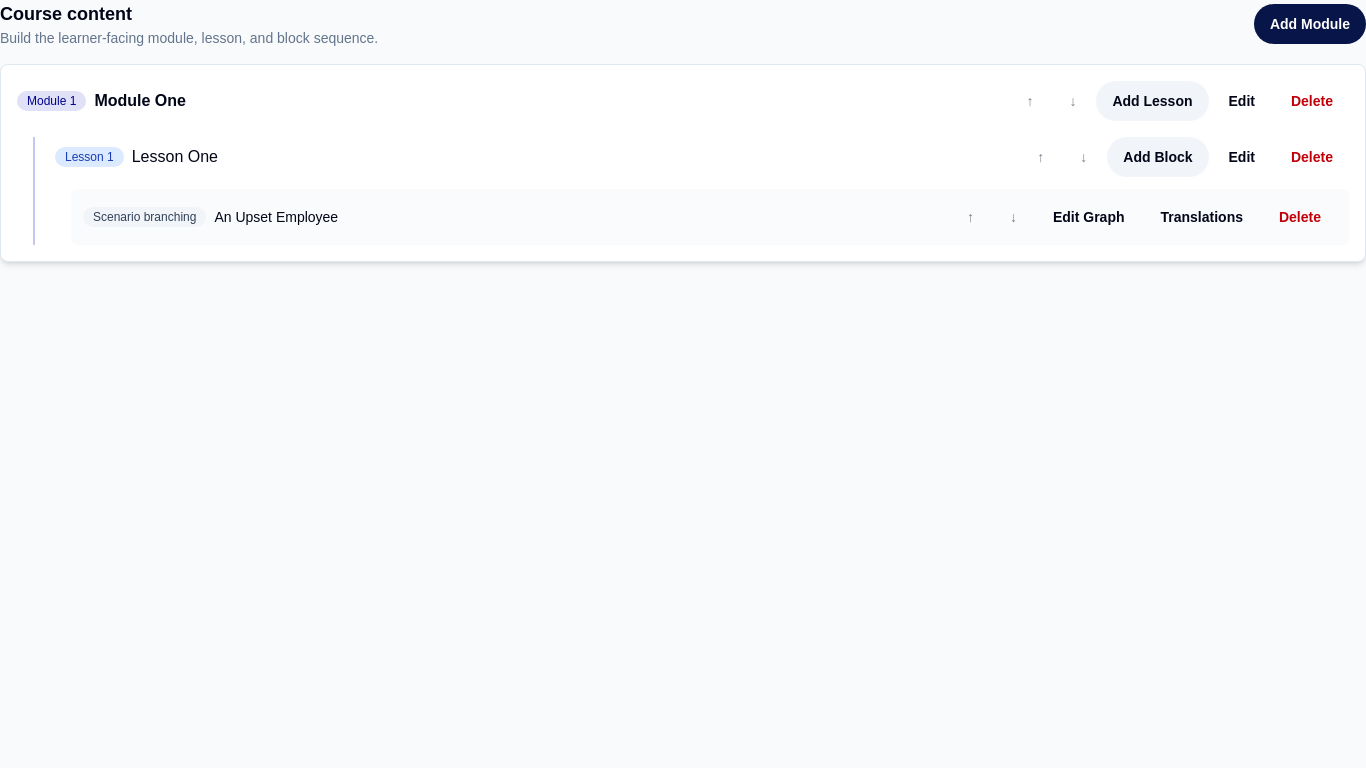
Test: MhdTrainingContentTreeEditor › the add-block type picker excludes SCENARIO_BRANCHING and AI_CONVERSATION
Click the button "Add Block": (1158, 157) left=1107, top=137, right=1208, bottom=177
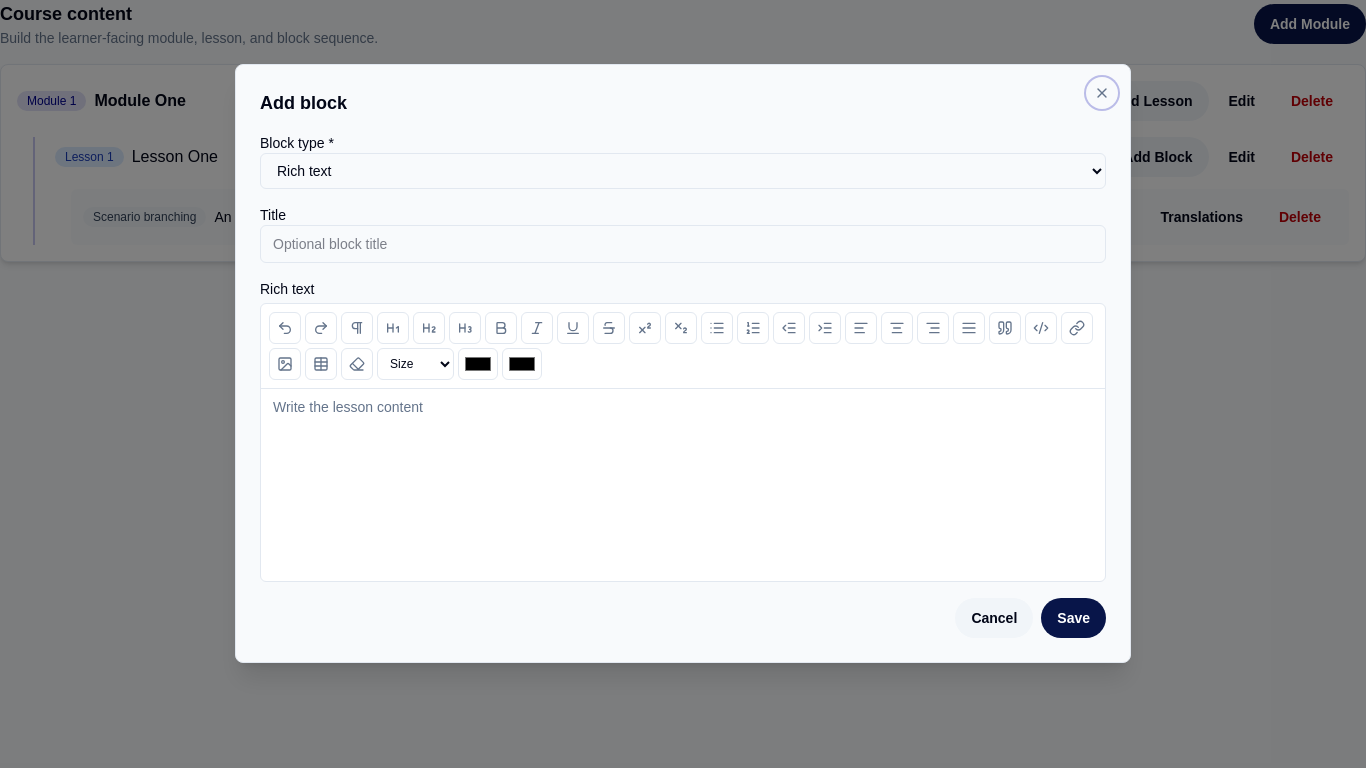
Check: the option does not show "Scenario branching"
Check: the label "Rich text" is shown, box left=260, top=281, right=314, bottom=297
